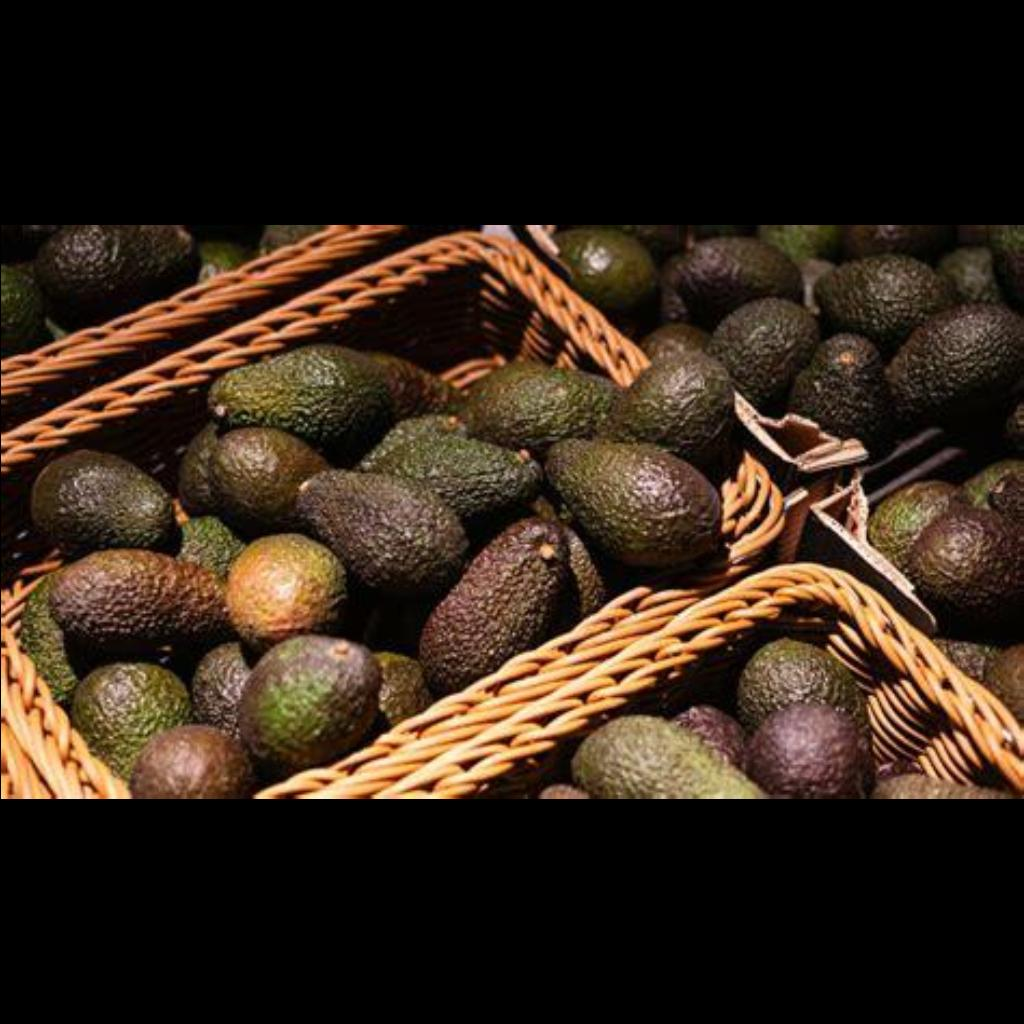Anthracnose: (698, 284, 988, 408), (282, 450, 482, 576), (29, 537, 247, 649), (562, 435, 736, 547), (212, 634, 388, 742), (900, 477, 1024, 617), (230, 360, 432, 420)
